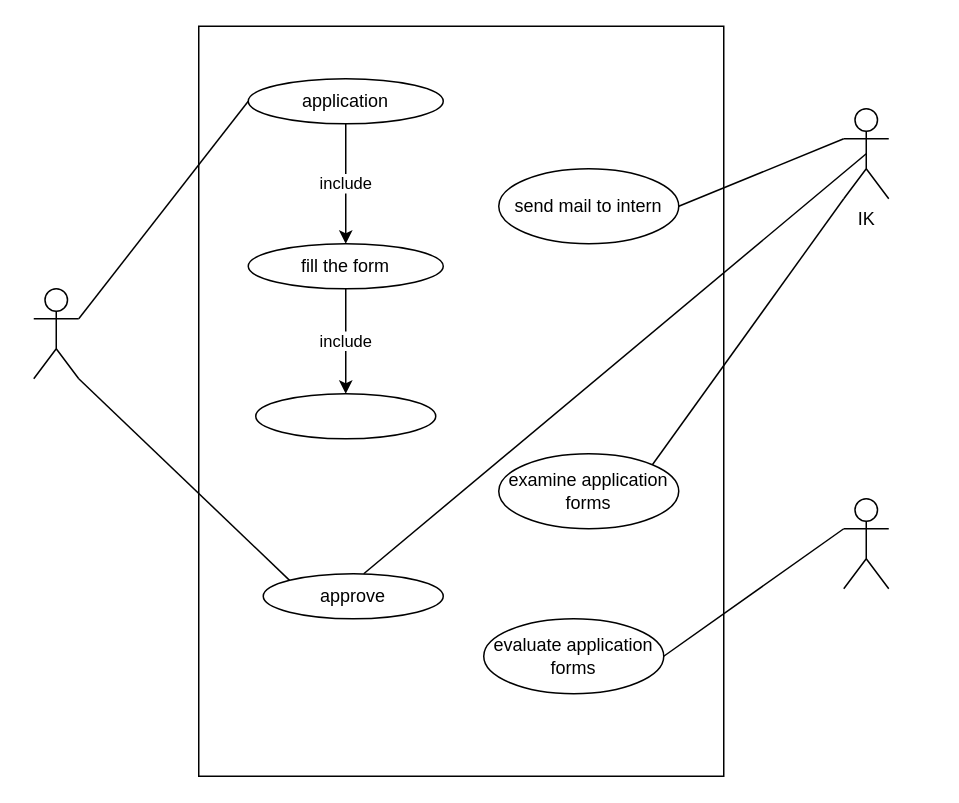
Some shapes in this 959 by 803 pixel diagram are drawn without their labels. Here are the shapes that lost their labels. From the top down, the box of each, then its label:
(32, 287, 79, 379): Student
(254, 392, 436, 439): add cv
(842, 497, 889, 589): Project Manager
